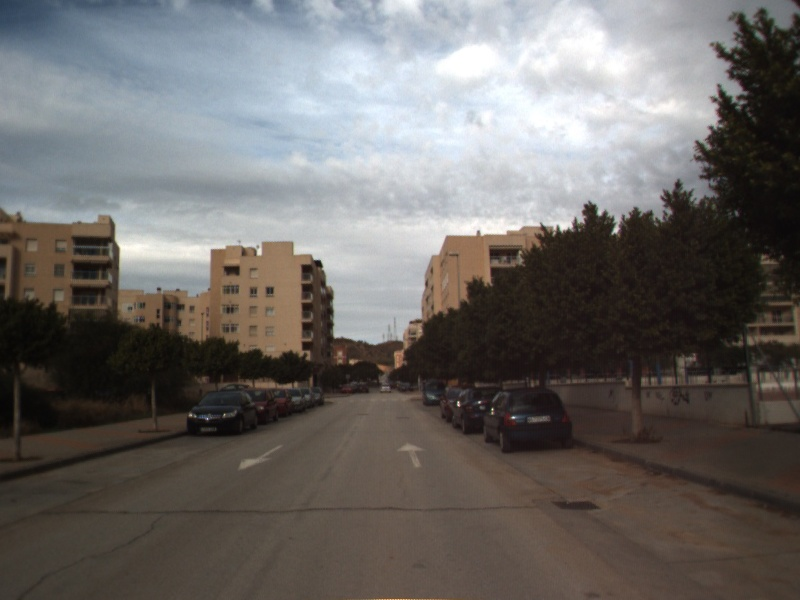STRAIGHT: (395, 440, 429, 469)
